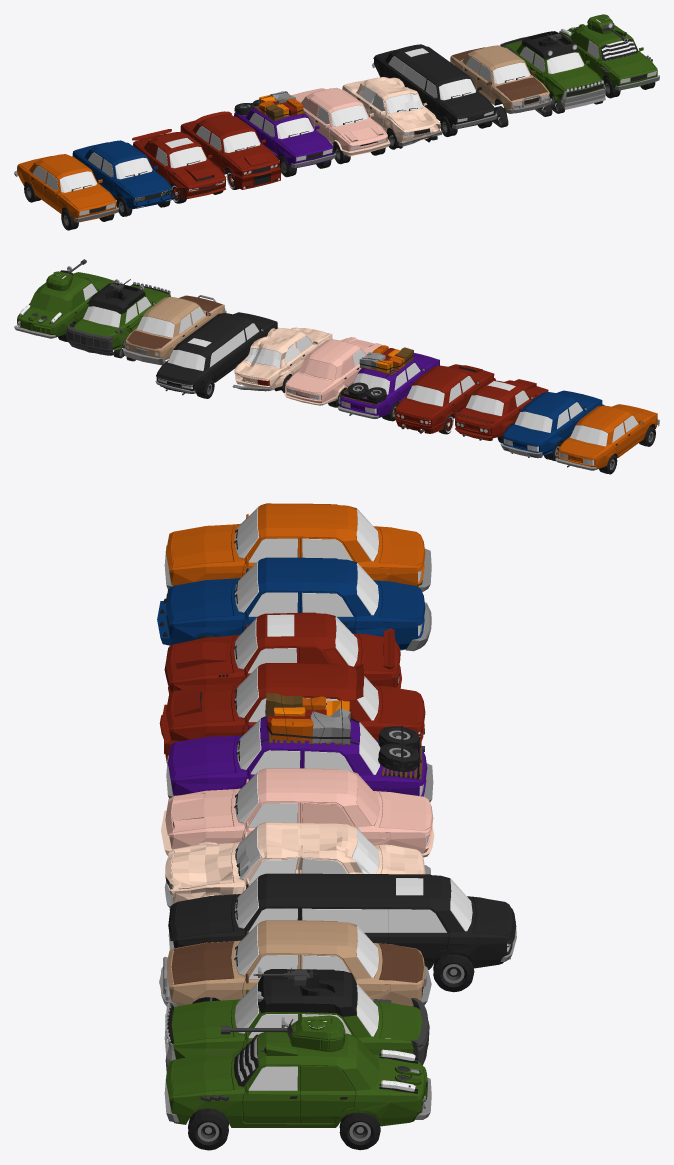
File: Cars.fbx
3 views of the same model, one above another, from view 1: azimuth 30°, elevation 25°; view 2: azimuth 150°, elevation 25°; view 3: azimuth 270°, elevation 25° (orthographic). The views are drawn at different scales.
Visible parts, largest first — view 1: Car.007, Car.004, Car.011, Car.008, Car.010, Car.013, Car.001, Car.002, Car.005, Car.003, Car.006; view 2: Car.007, Car.011, Car.004, Car.008, Car.001, Car.002, Car.010, Car.013, Car.005, Car.006, Car.003; view 3: Car.013, Car.007, Car.004, Car.002, Car.005, Car.010, Car.001, Car.011, Car.006, Car.008, Car.003.
Part boxes in pixels (bbox=[...]): Car.007: bbox=[372, 44, 496, 136]; Car.004: bbox=[234, 91, 335, 177]; Car.011: bbox=[500, 31, 605, 113]; Car.008: bbox=[180, 111, 281, 189]; Car.010: bbox=[450, 45, 552, 127]; Car.013: bbox=[559, 14, 659, 98]; Car.001: bbox=[14, 154, 118, 222]; Car.002: bbox=[72, 140, 174, 216]; Car.005: bbox=[292, 87, 390, 164]; Car.003: bbox=[132, 129, 226, 203]; Car.006: bbox=[342, 77, 442, 149]; Car.007: bbox=[155, 312, 278, 398]; Car.011: bbox=[66, 279, 170, 358]; Car.004: bbox=[337, 345, 439, 421]; Car.008: bbox=[394, 364, 495, 434]; Car.001: bbox=[555, 404, 659, 470]; Car.002: bbox=[500, 390, 604, 461]; Car.010: bbox=[122, 295, 226, 365]; Car.013: bbox=[14, 259, 114, 342]; Car.005: bbox=[284, 337, 381, 407]; Car.006: bbox=[232, 327, 332, 392]; Car.003: bbox=[454, 379, 548, 442]; Car.013: bbox=[164, 1015, 431, 1150]; Car.007: bbox=[168, 873, 516, 992]; Car.004: bbox=[166, 693, 433, 802]; Car.002: bbox=[157, 557, 431, 651]; Car.005: bbox=[161, 768, 434, 857]; Car.010: bbox=[159, 920, 431, 1006]; Car.001: bbox=[164, 503, 431, 591]; Car.011: bbox=[164, 967, 429, 1072]; Car.006: bbox=[164, 821, 430, 910]; Car.008: bbox=[159, 663, 425, 764]; Car.003: bbox=[164, 612, 401, 693].
Bounding box in the file's own units: 2185 × 200 × 578.
